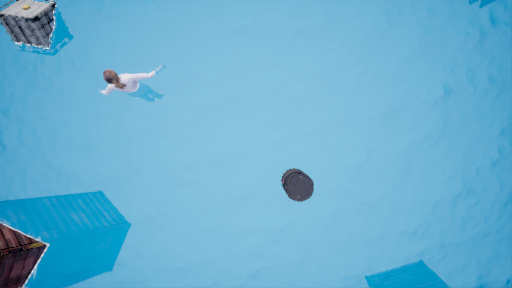person: (93, 63, 175, 113)
